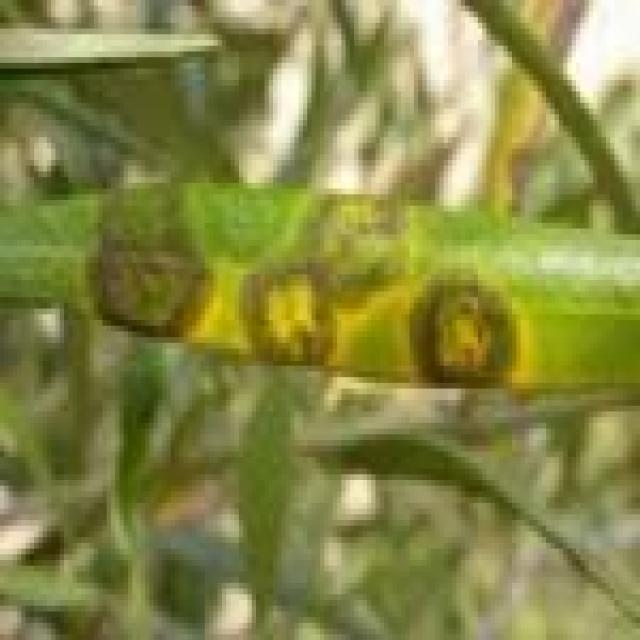Peacock Eye: (0, 183, 636, 383)
